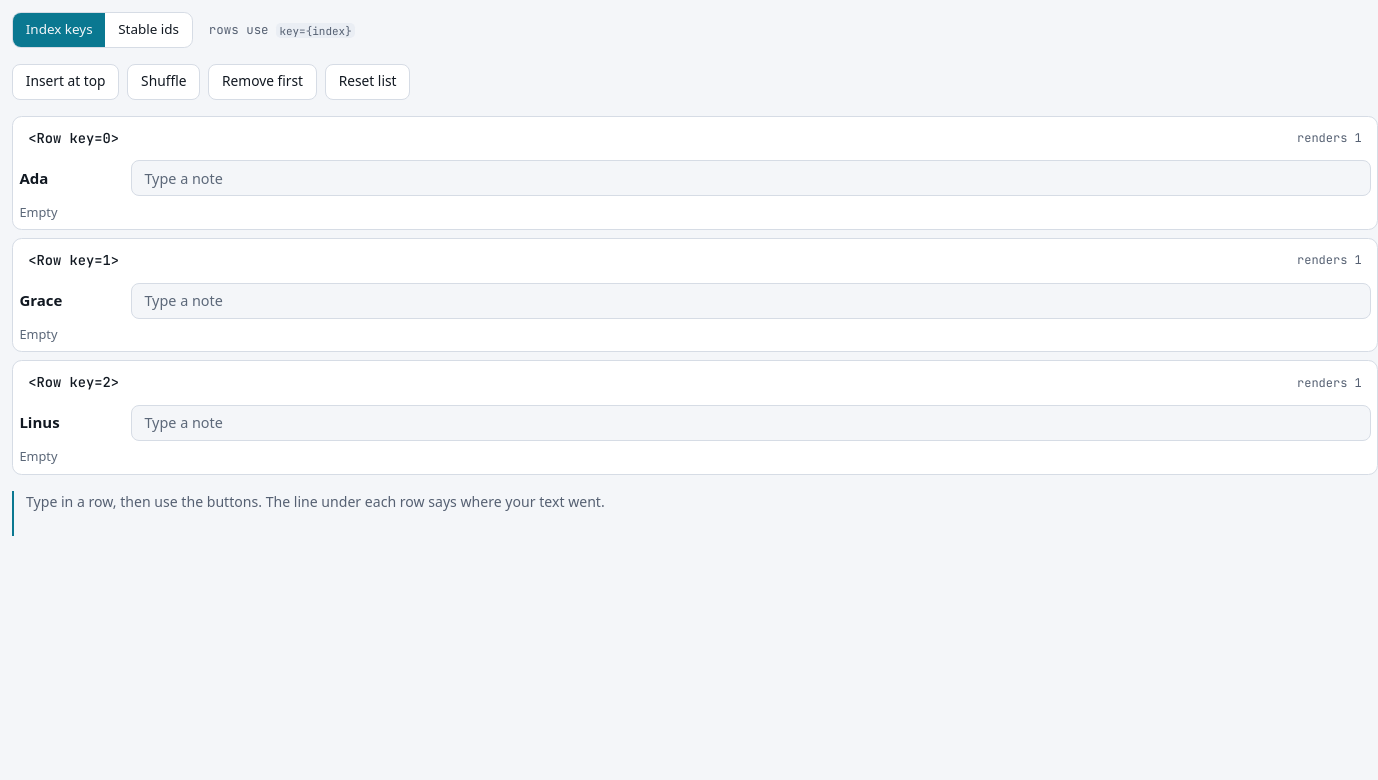
key-chaos lab › with index keys, removing the first row hands its text to the next item
In the field with placeholder "Type a note" next to "Ada": (751, 178) x1=131 y1=160 x2=1371 y2=196, type "alpha"
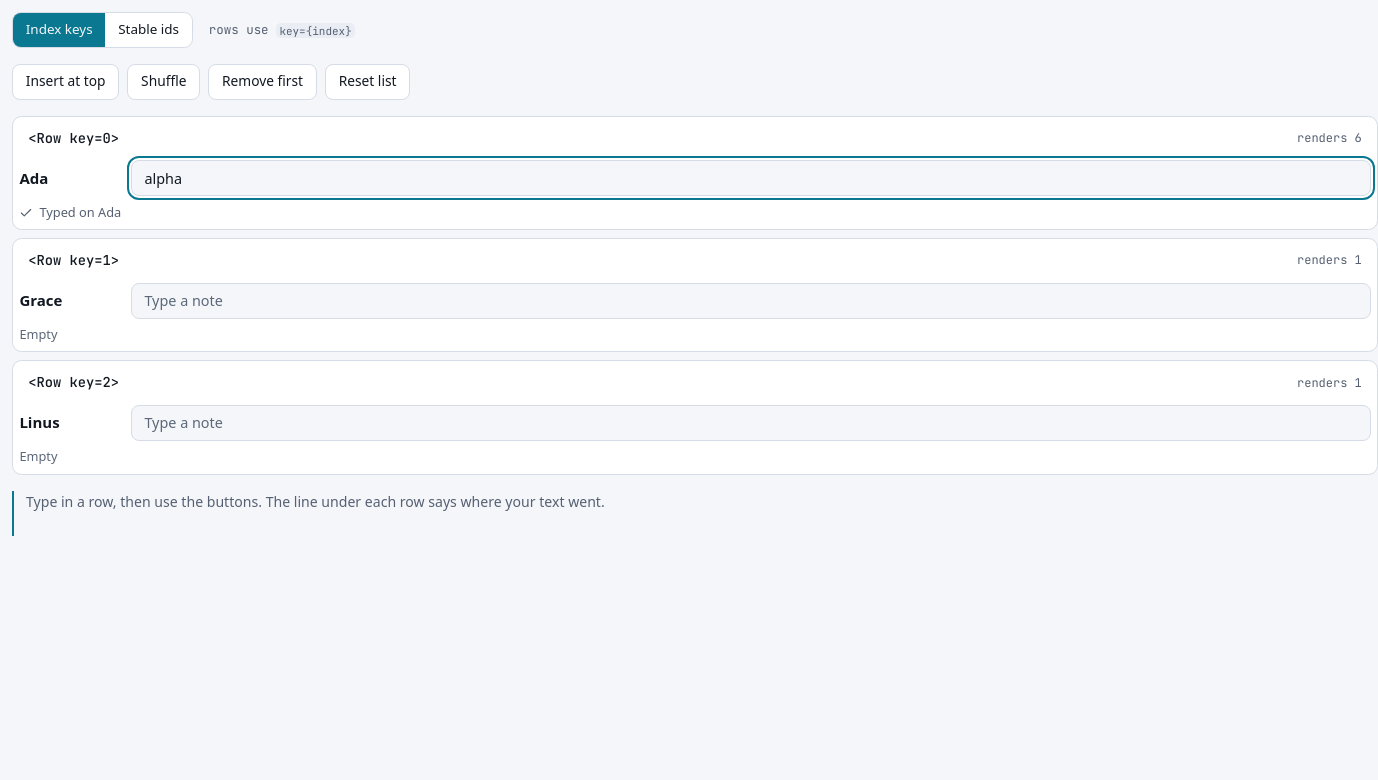
Click the button "Remove first": click(262, 82) x1=208 y1=64 x2=317 y2=100
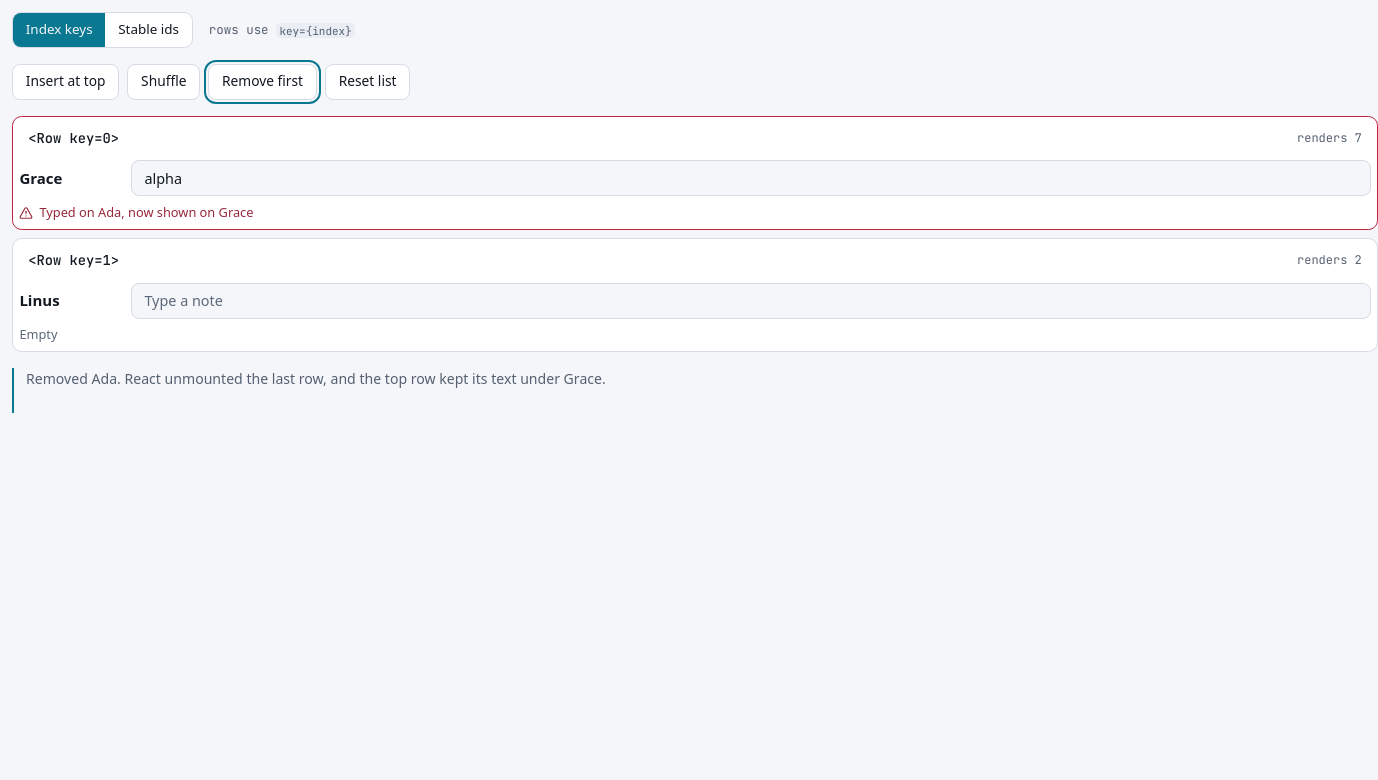
Check: the list item "<Row key=0> renders 7 Grace Typed on Ada, now shown on Grace" is shown, box x1=12 y1=116 x2=1377 y2=230
